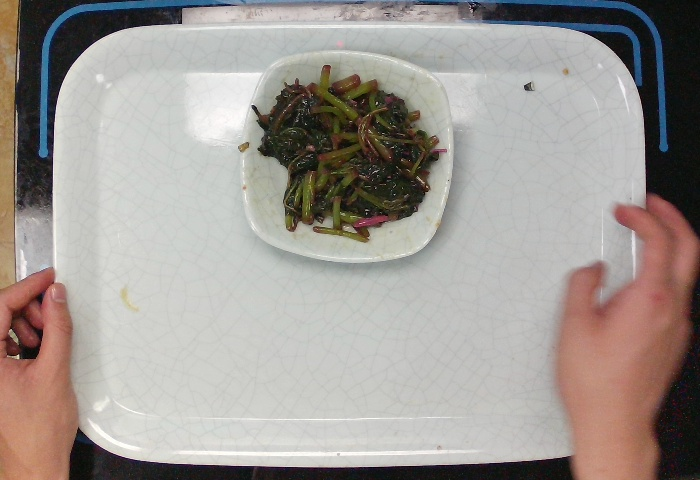WCQzf-Da_Si_Fang_Die: (230, 47, 458, 270)
